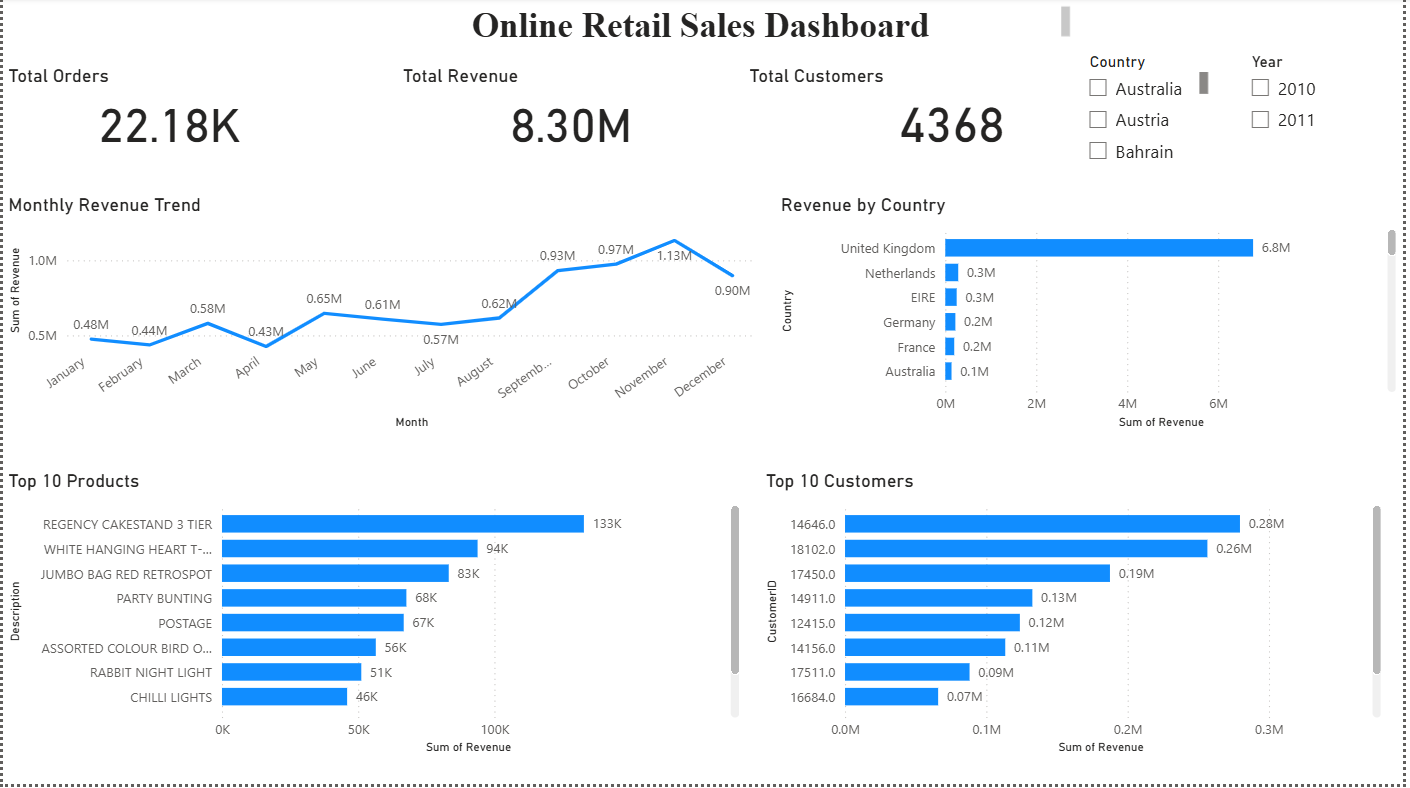

This screenshot's page, from the dashboard's own definition file:
{"tool":"powerbi","page":{"name":"Page 1","canvas":[1280,720],"ordinal":0},"visuals":[{"type":"lineChart","title":"Monthly Revenue Trend","fields":{"Y":["Sum(online_retail.Revenue)"],"Category":["online_retail.InvoiceDate.Variation.Date Hierarchy.Month"]},"box":[0,179.5,693.5,219.2],"z":0},{"type":"barChart","title":"Top 10 Products","fields":{"Category":["online_retail.Description"],"Y":["Sum(online_retail.Revenue)"]},"box":[0,432.8,678.4,264.6],"z":1000},{"type":"card","title":"Total Revenue","fields":{"Values":["Sum(online_retail.Revenue)"]},"box":[360.9,62.4,317.5,81.3],"z":2000},{"type":"card","title":"Total Orders","fields":{"Values":["Count(online_retail.InvoiceNo)"]},"box":[0,62.4,304.3,81.3],"z":3000},{"type":"card","title":"Total Customers","fields":{"Values":["Count(online_retail.CustomerID)"]},"box":[678.4,62.4,379.8,81.3],"z":4000},{"type":"slicer","fields":{"Values":["online_retail.Country"]},"box":[980.8,45.4,126.6,111.5],"z":5000},{"type":"slicer","fields":{"Values":["online_retail.InvoiceDate.Variation.Date Hierarchy.Year"]},"box":[1130.1,45.4,149.3,98.3],"z":6000},{"type":"barChart","title":"Revenue by Country","fields":{"Category":["online_retail.Country"],"Y":["Sum(online_retail.Revenue)"]},"box":[706.8,179.5,572.6,219.2],"z":7000},{"type":"barChart","title":"Top 10 Customers","fields":{"Category":["online_retail.CustomerID"],"Y":["Sum(online_retail.Revenue)"]},"box":[693.5,432.8,572.6,264.6],"z":8000},{"type":"textbox","box":[240,0,740.8,45.4],"z":8001}]}

Visuals, with their boxes in screenshot pixels (x1, y1, x2, y2), scaled from the page's 1280x720 canvas onto the 1410x788 screenshot:
"Monthly Revenue Trend" lineChart: {"left": 0, "top": 196, "right": 764, "bottom": 436}
"Top 10 Products" barChart: {"left": 0, "top": 474, "right": 747, "bottom": 763}
"Total Revenue" card: {"left": 398, "top": 68, "right": 747, "bottom": 157}
"Total Orders" card: {"left": 0, "top": 68, "right": 335, "bottom": 157}
"Total Customers" card: {"left": 747, "top": 68, "right": 1166, "bottom": 157}
slicer - online_retail.Country: {"left": 1080, "top": 50, "right": 1220, "bottom": 172}
slicer - online_retail.InvoiceDate.Variation.Date Hierarchy.Year: {"left": 1245, "top": 50, "right": 1409, "bottom": 157}
"Revenue by Country" barChart: {"left": 779, "top": 196, "right": 1409, "bottom": 436}
"Top 10 Customers" barChart: {"left": 764, "top": 474, "right": 1395, "bottom": 763}
textbox: {"left": 264, "top": 0, "right": 1080, "bottom": 50}
